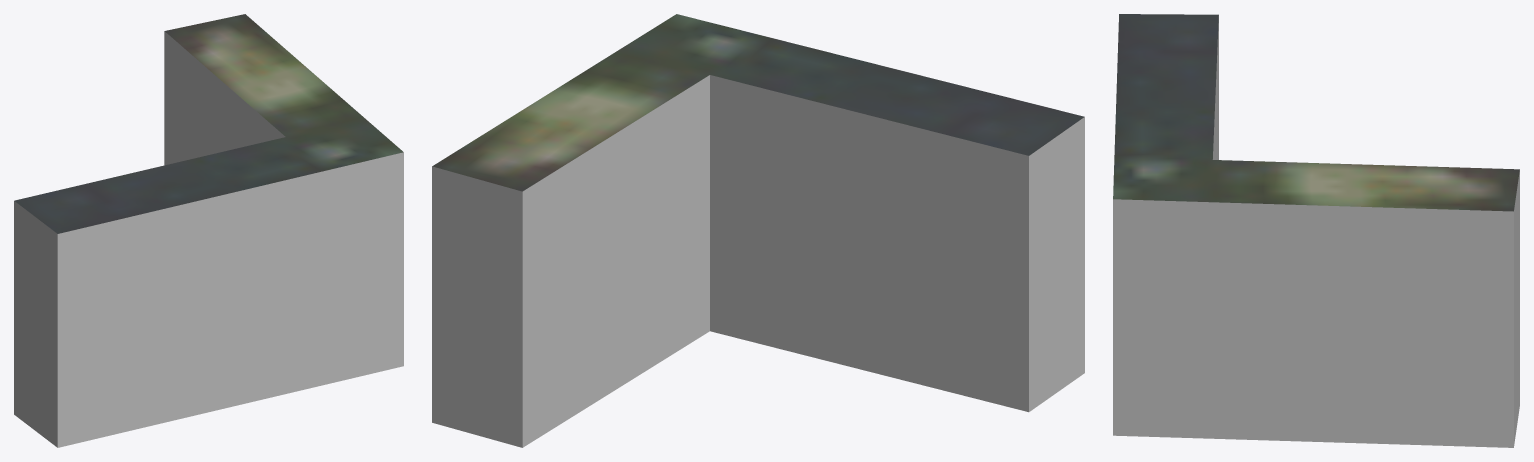
File: DEBW_001000hBWQs.gltf
3 views of the same model, side by side, from view 1: azimuth 30°, elevation 25°; view 2: azimuth 150°, elevation 25°; view 3: azimuth 270°, elevation 25° (orthographic). The views are drawn at different scales.
Visible parts, largest first — view 1: Z_UP; view 2: Z_UP; view 3: Z_UP.
Part boxes in pixels (x1,y1,x2,y2): Z_UP: [14, 14, 403, 447]; Z_UP: [432, 14, 1084, 447]; Z_UP: [1113, 14, 1519, 447].
Bounding box in the file's own units: 7.73 × 4.32 × 6.73.
2 materials, 1 textured.
